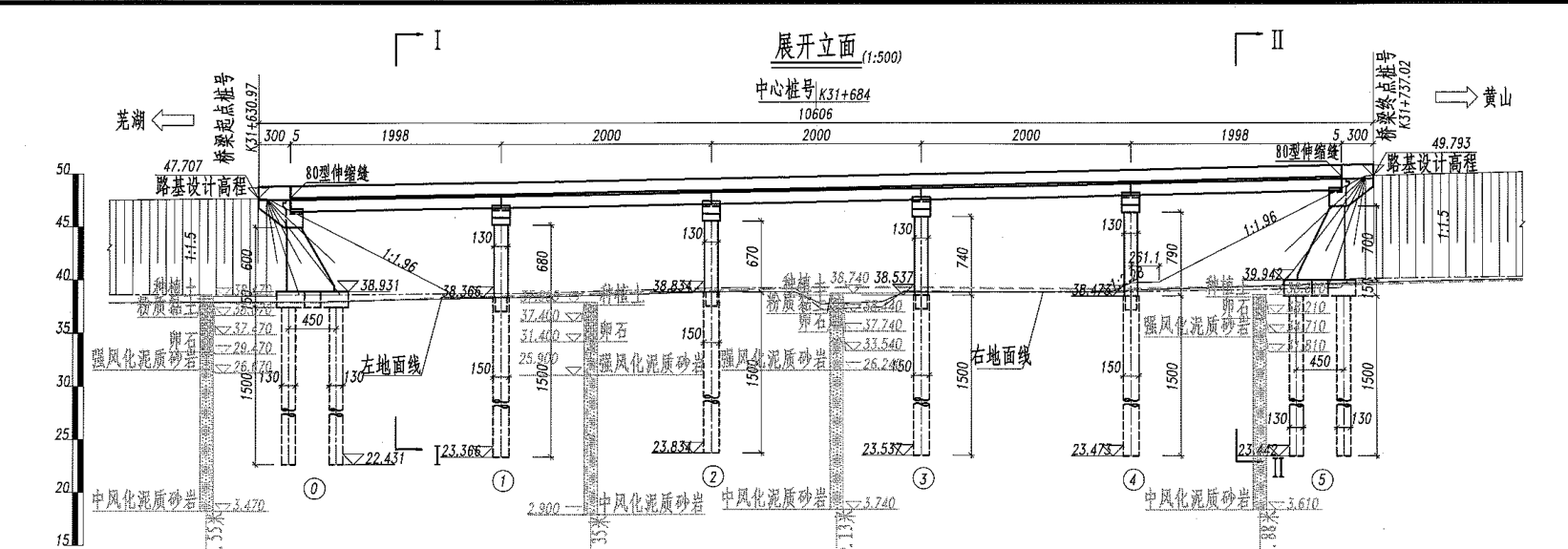A: (254, 107, 1386, 129)
C: (1059, 191, 1155, 496), (431, 200, 524, 498), (855, 192, 946, 496), (641, 195, 734, 492), (1276, 270, 1367, 497)
